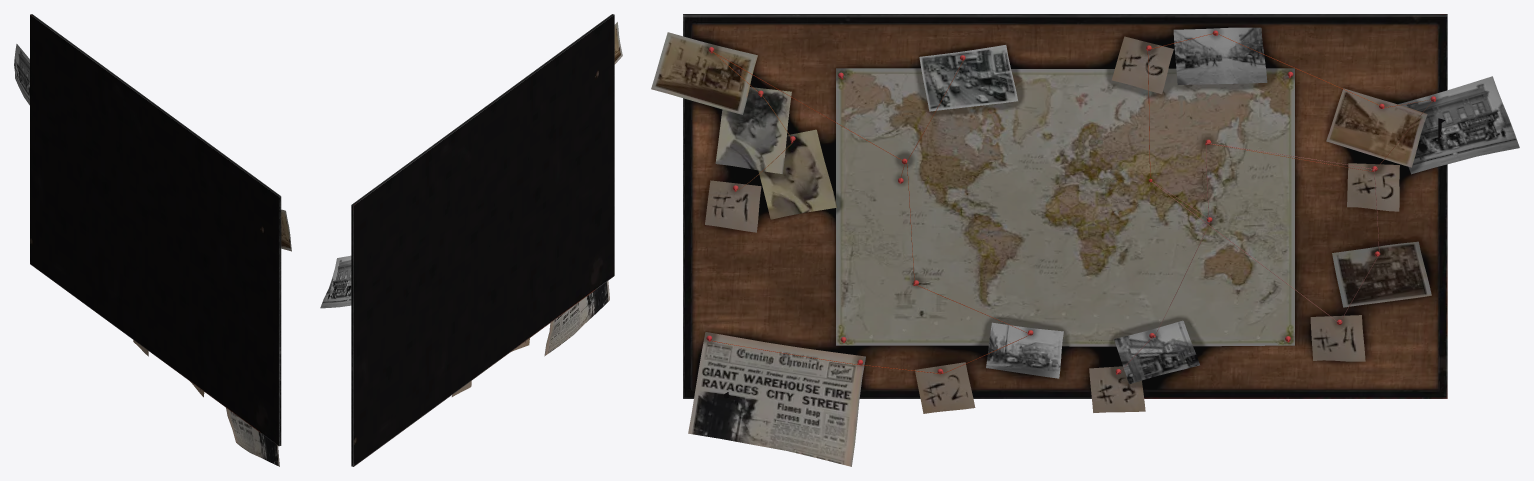
Rendered from development-transformed.glb.
3 renders of one model, left to right at view 1: azimuth 30°, elevation 25°; view 2: azimuth 150°, elevation 25°; view 3: azimuth 270°, elevation 25°, orthographic. The views are drawn at different scales.
Parts seen in each view (by area): view 1: Cube.099, Plane.062, Plane.070, Plane.067; view 2: Cube.099, Plane.062, Plane.070; view 3: Plane.058, Cube.099, Plane.062, Plane.070, Plane.067, Plane.061, Plane.069, Plane.072, Plane.071, Plane.059, Plane.060, Plane.066 (+7 smaller).
Boxes of the visible parts, box(x1,y1,x2,y2) form: Cube.099: box(30, 14, 281, 446); Plane.062: box(226, 408, 279, 466); Plane.070: box(14, 44, 29, 105); Plane.067: box(281, 209, 291, 251); Cube.099: box(351, 14, 614, 466); Plane.062: box(544, 281, 609, 356); Plane.070: box(320, 255, 351, 308); Plane.058: box(836, 68, 1294, 346); Cube.099: box(683, 14, 1447, 398); Plane.062: box(688, 332, 865, 466); Plane.070: box(1398, 76, 1519, 174); Plane.067: box(651, 32, 757, 114); Plane.061: box(919, 45, 1017, 111); Plane.069: box(1326, 88, 1427, 167); Plane.072: box(1173, 27, 1267, 84); Plane.071: box(1332, 241, 1431, 307); Plane.059: box(715, 87, 791, 173); Plane.060: box(758, 129, 837, 219); Plane.066: box(1114, 320, 1199, 384).
Size of the model in its own units: 0.059 by 1.35 by 2.4.
Materials: 1 (1 with a texture image).
